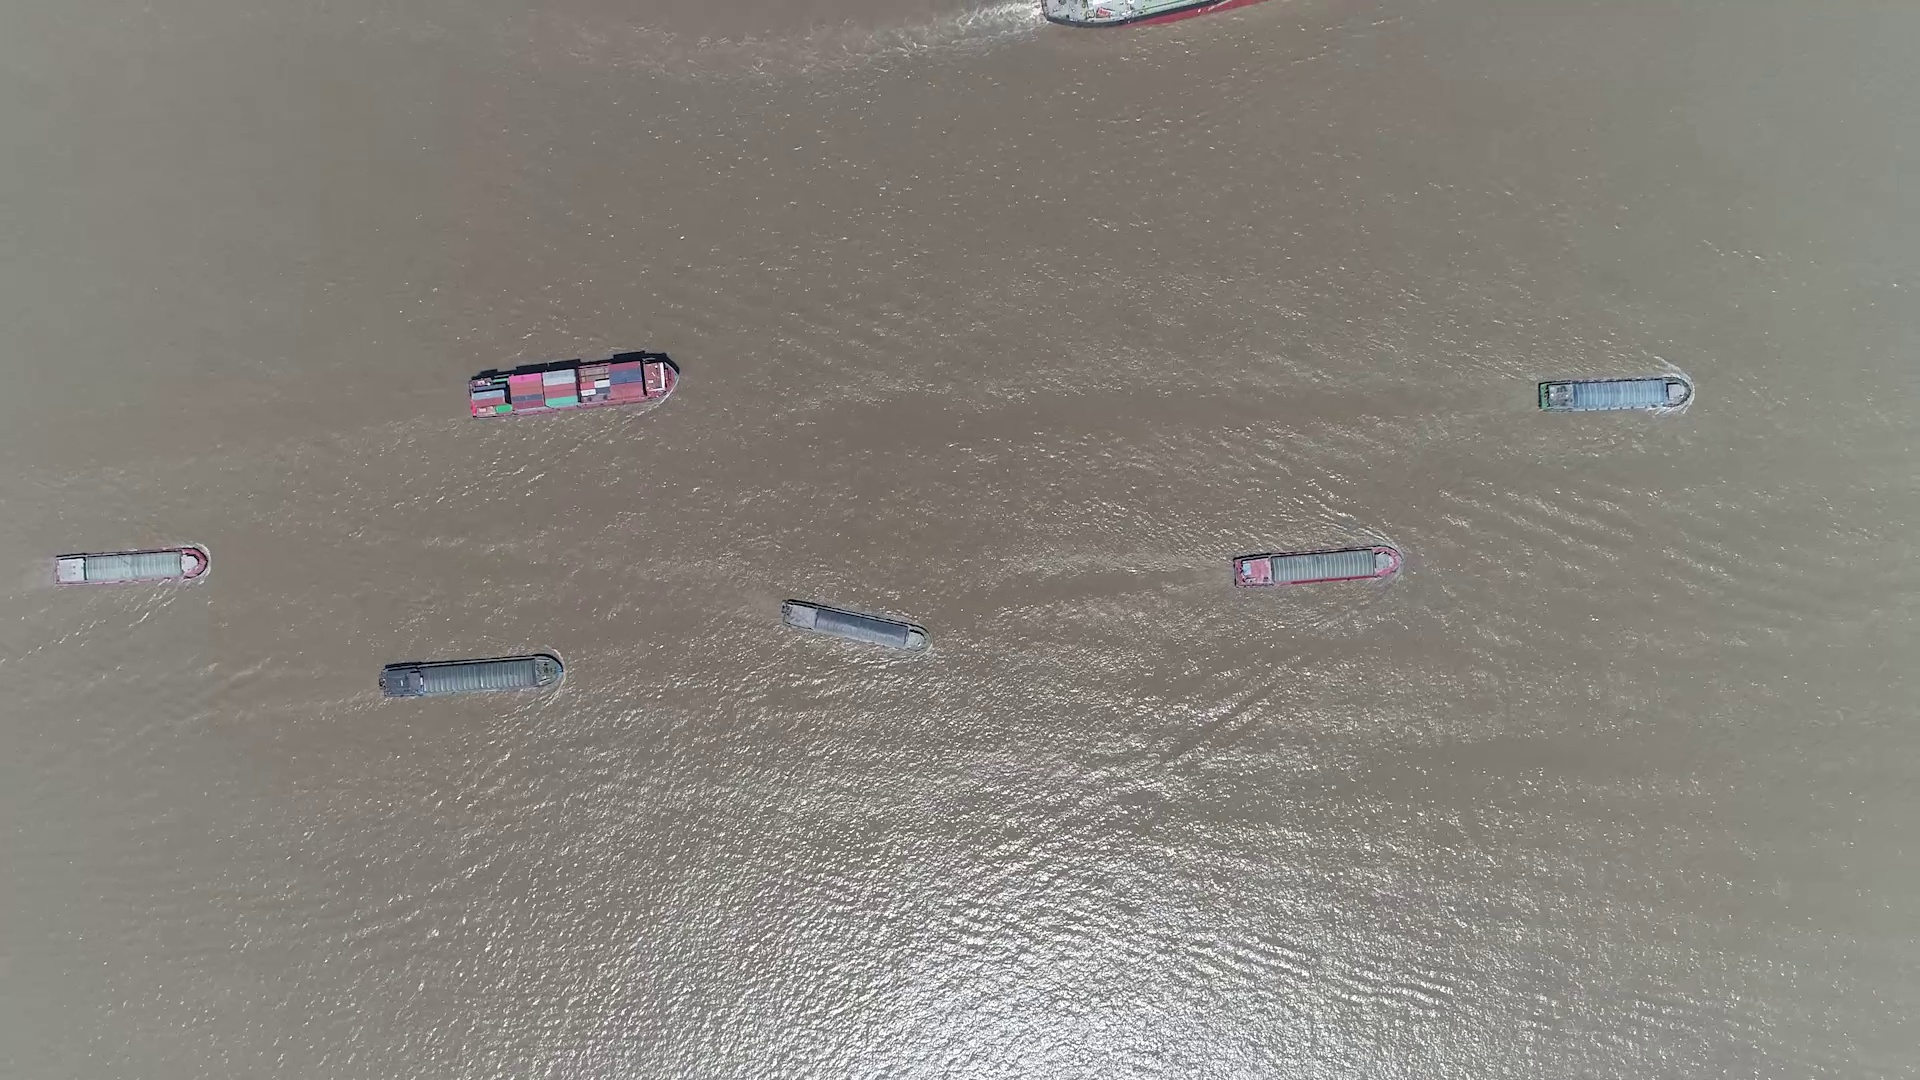ship: (467, 353, 679, 415), (380, 653, 562, 698), (1233, 545, 1404, 589), (783, 600, 928, 651), (1042, 1, 1269, 30), (50, 549, 208, 585), (1538, 378, 1691, 413)
